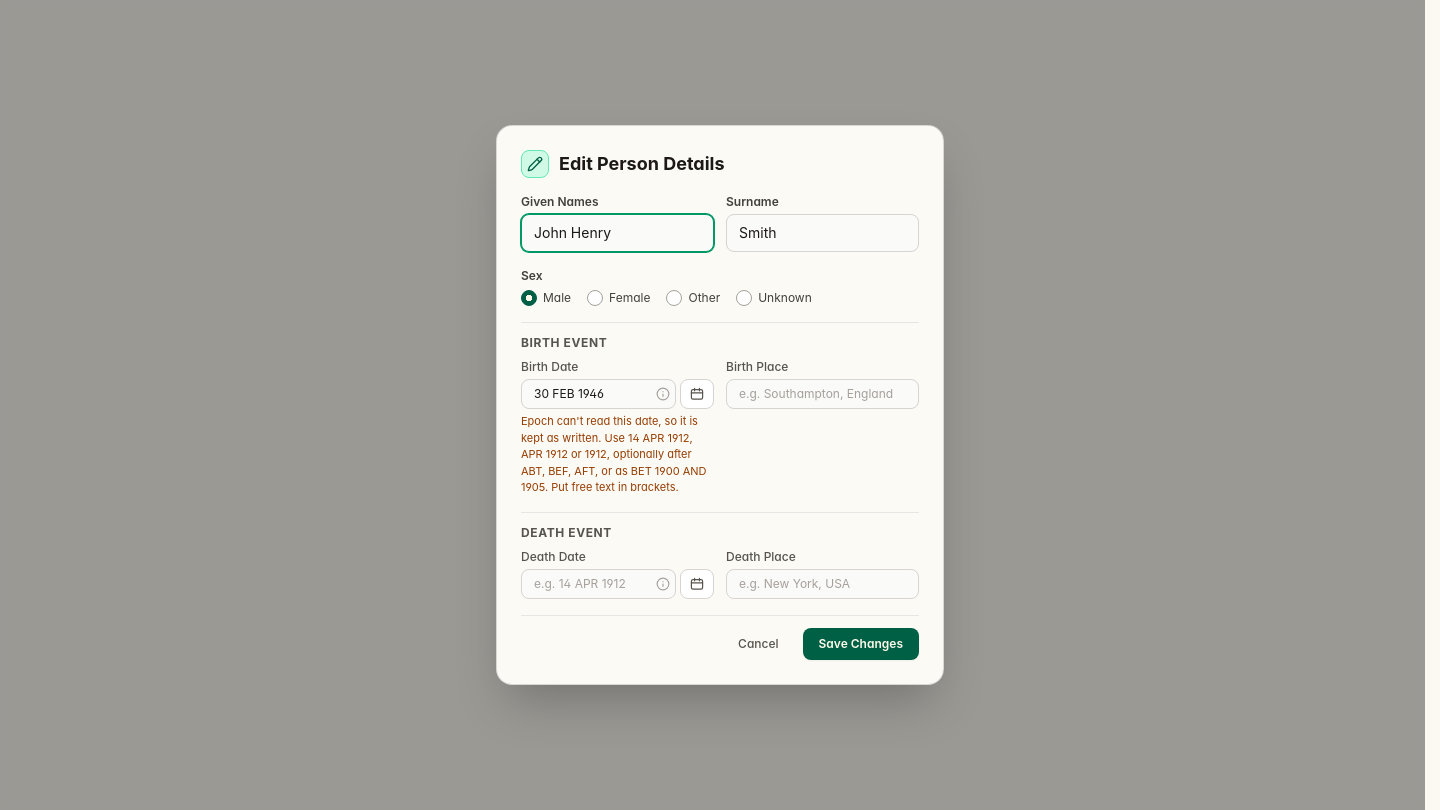
Test: PersonModal › keeps a date picked over an unreadable saved date
Click the button named "Pick a date" below "Birth Date": (697, 394) [680,379,714,409]
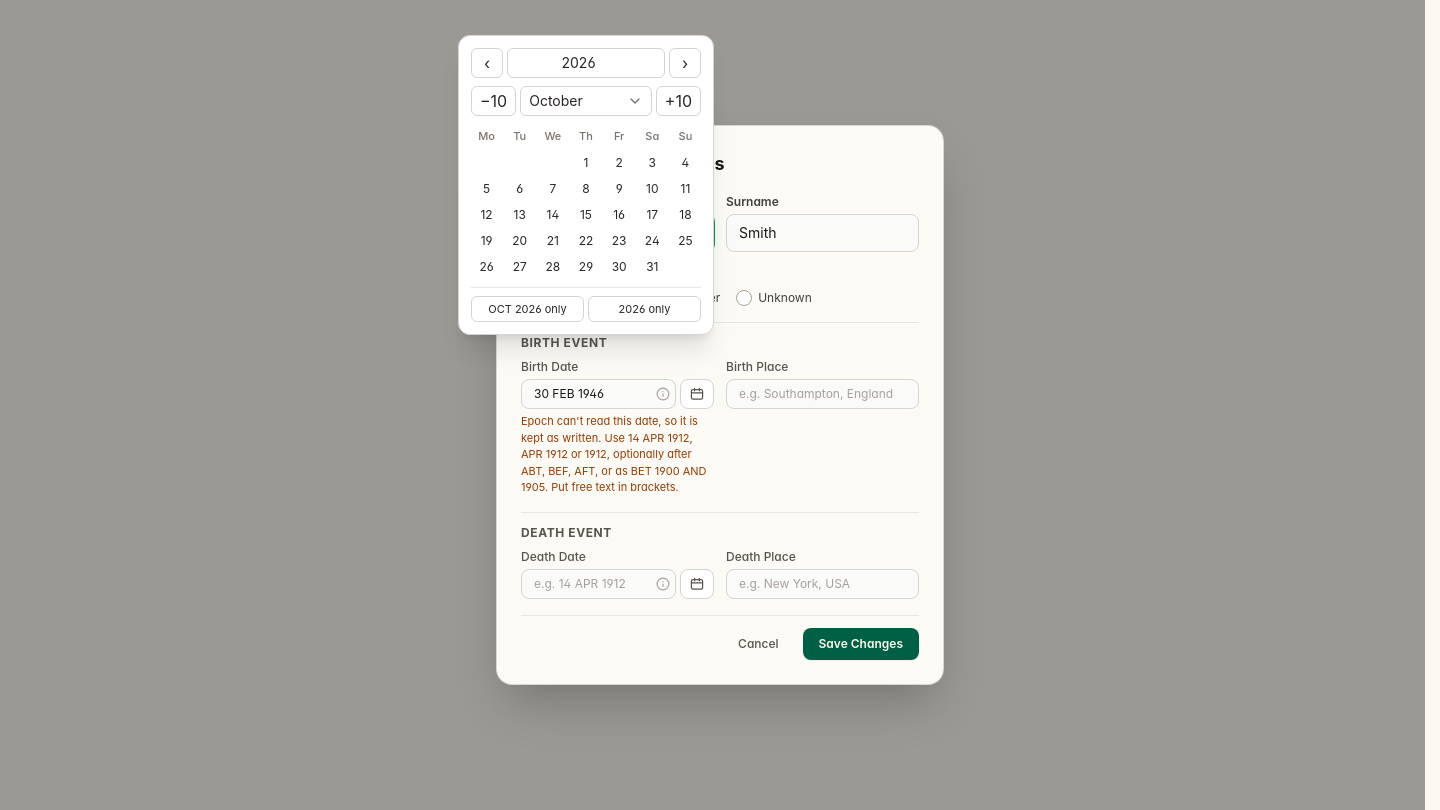
Replace the text in the number field named "Year" with "1946": (586, 63) [507,48,665,78]
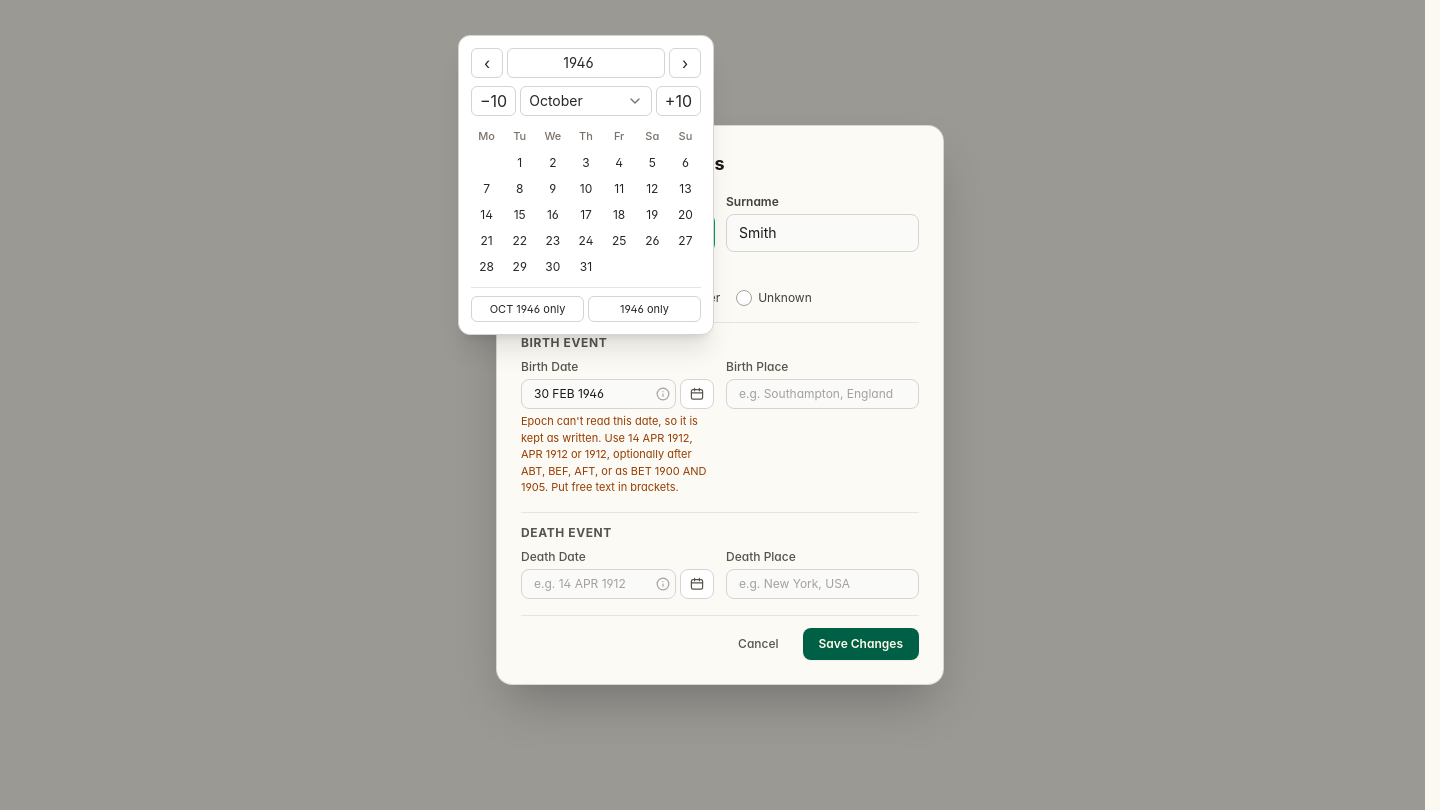
Click the button "1946 only": (644, 309) [588,296,701,322]
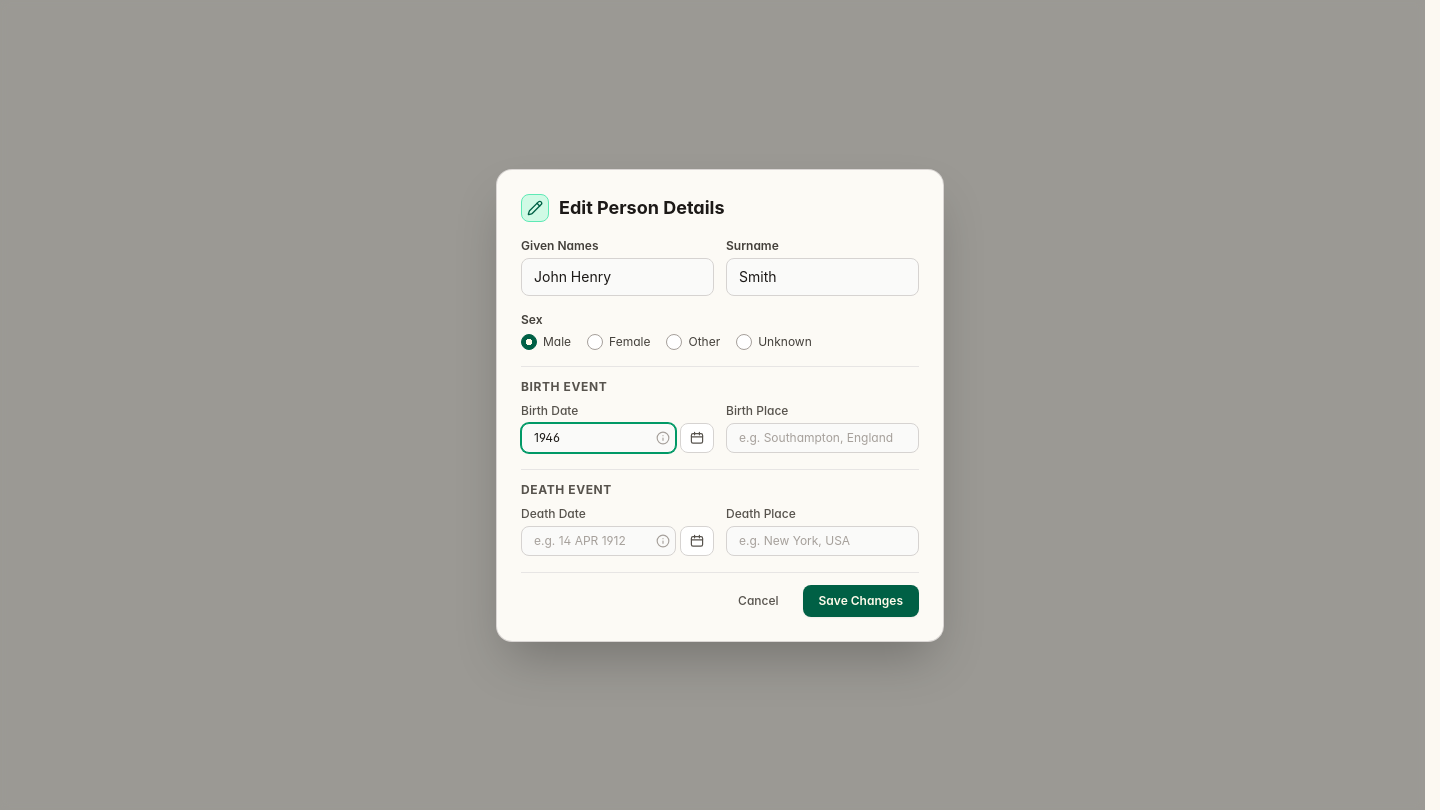
Now the field labelled "Birth Date" holds "1946", box [521,422,676,452]
